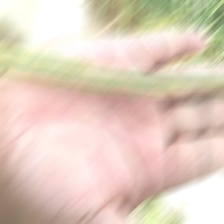Leaf_Blast: (6, 42, 222, 95)
